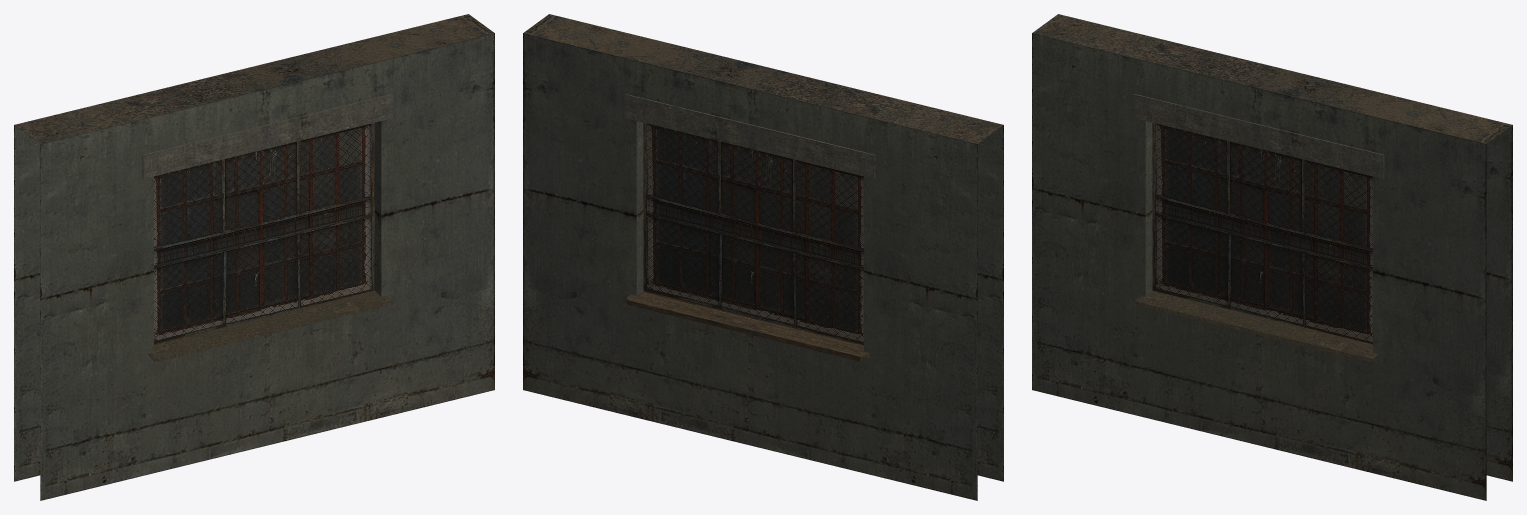
The model's file is window_rg_1.obj.
3 renders of one model, left to right at view 1: azimuth 30°, elevation 25°; view 2: azimuth 150°, elevation 25°; view 3: azimuth 330°, elevation 25°, orthographic.
Parts seen in each view (by area): view 1: window_rg_1; view 2: window_rg_1; view 3: window_rg_1.
Boxes of the visible parts, bbox=[...] form: window_rg_1: bbox=[14, 14, 494, 500]; window_rg_1: bbox=[523, 14, 1003, 500]; window_rg_1: bbox=[1032, 14, 1512, 500].
Size of the model in its own units: 4 by 3 by 0.595.
